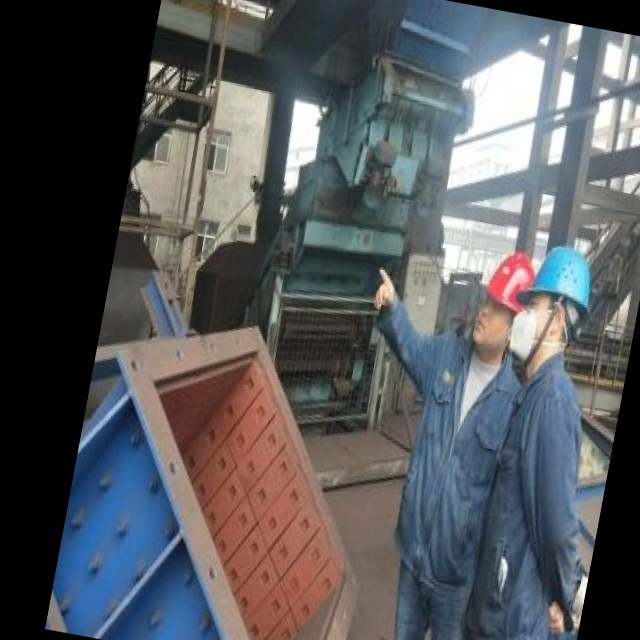Con_Casco: (512, 237, 598, 374)
